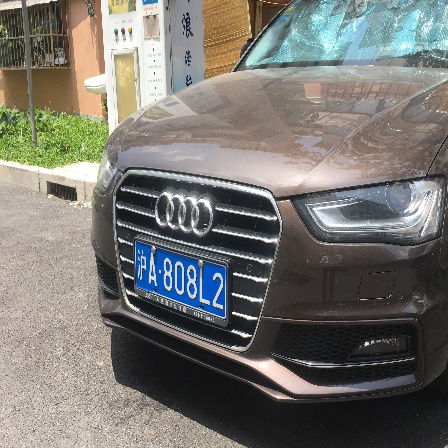plate: (135, 231, 230, 324)
